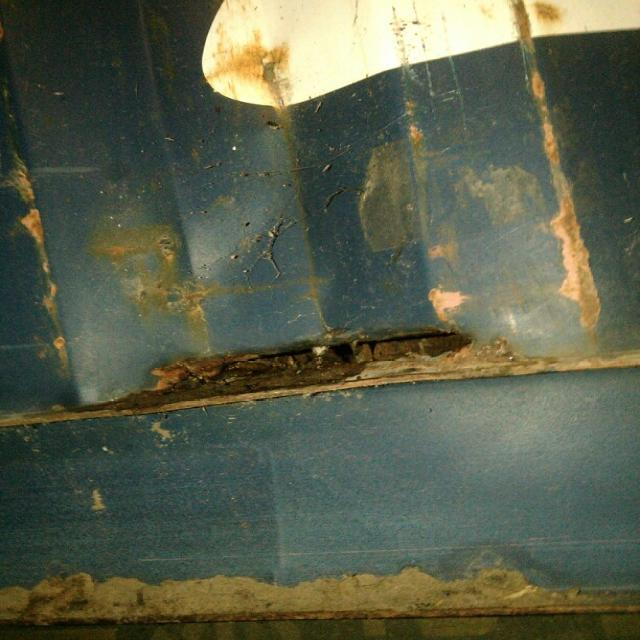dent: (35, 324, 493, 430)
